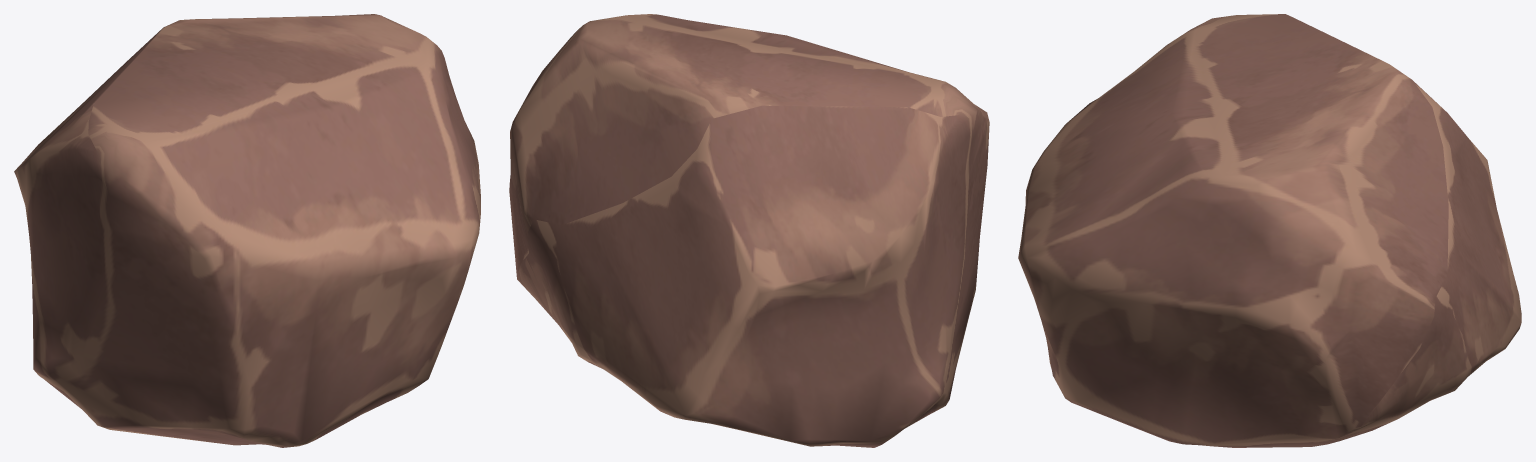
Rendered from Rock_A.FBX.
3 renders of one model, left to right at view 1: azimuth 30°, elevation 25°; view 2: azimuth 150°, elevation 25°; view 3: azimuth 270°, elevation 25°, orthographic. The views are drawn at different scales.
Visible parts, largest first — view 1: Rock_A; view 2: Rock_A; view 3: Rock_A.
Part boxes in pixels (box(x1,y1,x2,y2)): Rock_A: box(14, 14, 480, 447); Rock_A: box(509, 14, 989, 447); Rock_A: box(1018, 14, 1521, 447).
Bounding box in the file's own units: 32.23 × 24.45 × 32.53.
